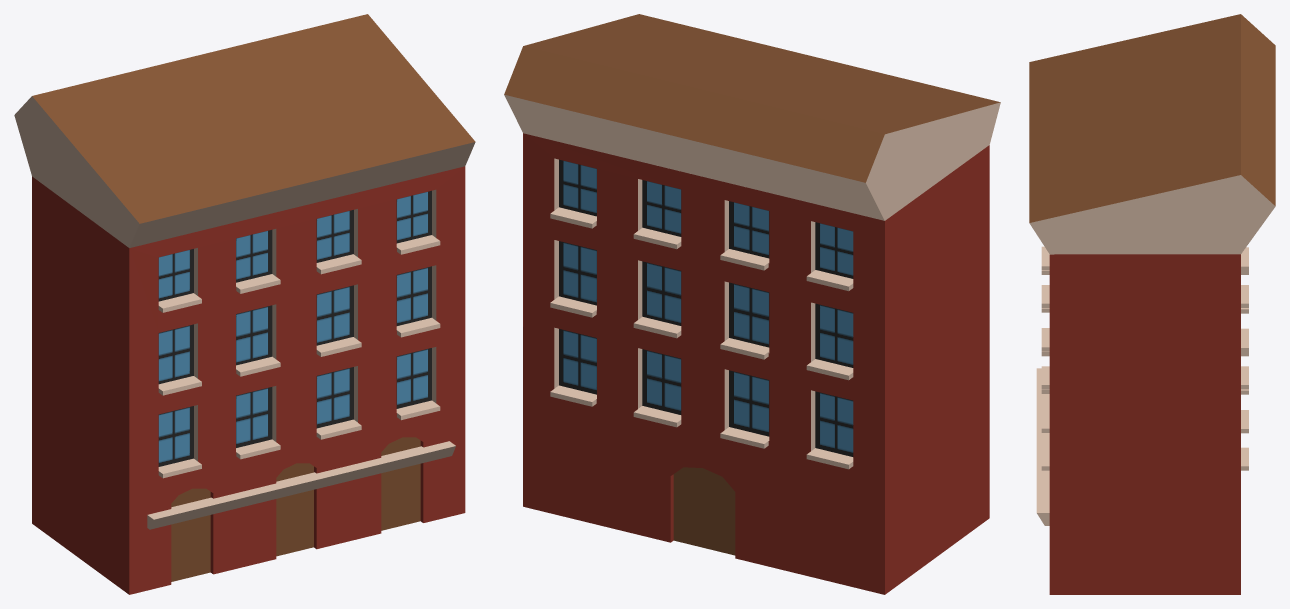
Rendered from BigRed.obj.
3 views of the same model, side by side, from view 1: azimuth 30°, elevation 25°; view 2: azimuth 150°, elevation 25°; view 3: azimuth 270°, elevation 25° (orthographic). The views are drawn at different scales.
Visible parts, largest first — view 1: DuzyZwyklyCzerwony.001; view 2: DuzyZwyklyCzerwony.001; view 3: DuzyZwyklyCzerwony.001.
Boxes of the visible parts, x1,y1,x2,y2 form: DuzyZwyklyCzerwony.001: (14, 14, 475, 594); DuzyZwyklyCzerwony.001: (504, 14, 1000, 594); DuzyZwyklyCzerwony.001: (1029, 14, 1275, 594).
Size of the model in its own units: 10.96 by 13.33 by 7.09.
